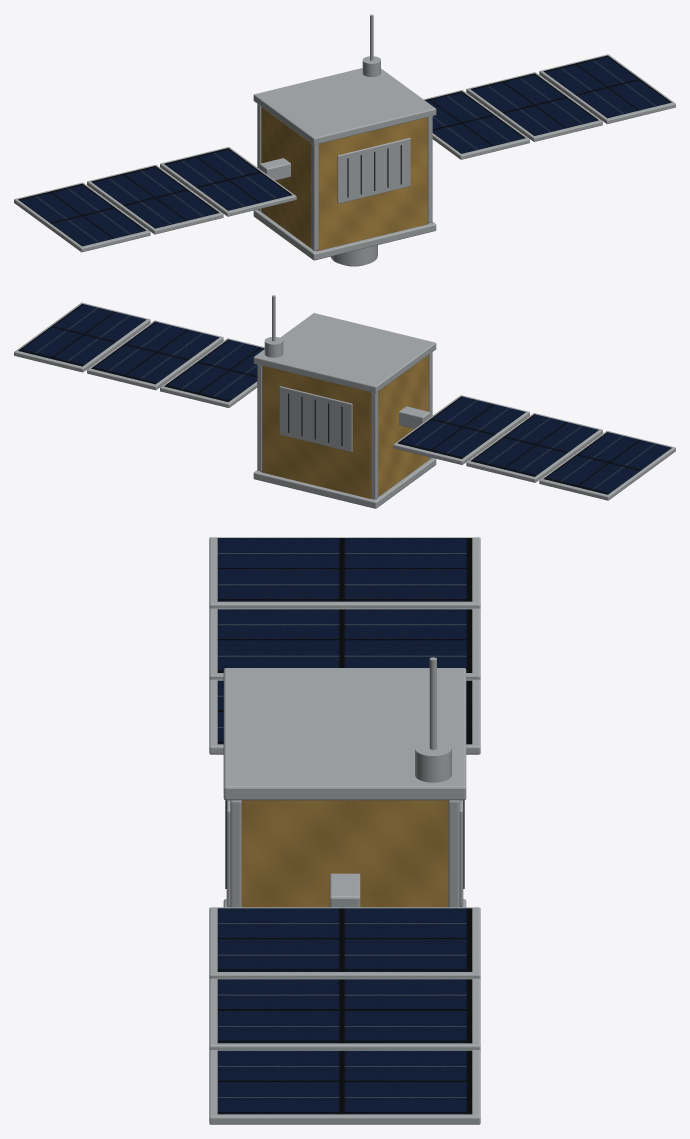
File: satellite_base.glb
3 views of the same model, one above another, from view 1: azimuth 30°, elevation 25°; view 2: azimuth 150°, elevation 25°; view 3: azimuth 270°, elevation 25° (orthographic). The views are drawn at different scales.
Visible parts, largest first — view 1: Satellite_Bus, Satellite_StructuralDeck.001, SolarPanel_Cells.004, SolarPanel_Cells.001, SolarPanel_Cells.002, SolarPanel_Cells.005, SolarPanel_Cells, Bus_RadiatorPanel, SolarPanel_Cells.003, Satellite_StructuralDeck, SolarPanel_Frame, SolarPanel_Frame.001 (+8 smaller); view 2: Satellite_Bus, Satellite_StructuralDeck.001, SolarPanel_Cells.004, SolarPanel_Cells, SolarPanel_Cells.001, SolarPanel_Cells.005, SolarPanel_Cells.002, Bus_RadiatorPanel.001, SolarPanel_Cells.003, Satellite_StructuralDeck, SolarPanel_Frame, SolarPanel_Frame.004 (+8 smaller); view 3: Satellite_StructuralDeck.001, Satellite_Bus, SolarPanel_Cells.004, SolarPanel_Cells.005, SolarPanel_Cells.002, SolarPanel_Cells.003, SolarPanel_Cells.001, SolarPanel_Frame.005, SolarPanel_Frame.002, SolarPanel_Frame.003, SolarPanel_Frame.004, SolarPanel_Frame.001 (+6 smaller).
Part boxes in pixels (bbox=[...]): Satellite_Bus: bbox=[261, 107, 428, 250]; Satellite_StructuralDeck.001: bbox=[253, 68, 436, 144]; SolarPanel_Cells.004: bbox=[470, 73, 598, 135]; SolarPanel_Cells.001: bbox=[91, 166, 219, 228]; SolarPanel_Cells.002: bbox=[18, 183, 146, 246]; SolarPanel_Cells.005: bbox=[543, 55, 671, 118]; SolarPanel_Cells: bbox=[164, 148, 291, 210]; Bus_RadiatorPanel: bbox=[337, 138, 410, 203]; SolarPanel_Cells.003: bbox=[425, 91, 525, 153]; Satellite_StructuralDeck: bbox=[253, 209, 436, 260]; SolarPanel_Frame: bbox=[160, 147, 296, 216]; SolarPanel_Frame.001: bbox=[87, 164, 223, 234]; Satellite_Bus: bbox=[261, 355, 428, 499]; Satellite_StructuralDeck.001: bbox=[253, 313, 436, 393]; SolarPanel_Cells.004: bbox=[91, 321, 219, 384]; SolarPanel_Cells: bbox=[397, 396, 525, 458]; SolarPanel_Cells.001: bbox=[471, 414, 598, 476]; SolarPanel_Cells.005: bbox=[18, 304, 146, 366]; SolarPanel_Cells.002: bbox=[544, 432, 671, 494]; Bus_RadiatorPanel.001: bbox=[279, 386, 352, 452]; SolarPanel_Cells.003: bbox=[164, 339, 264, 401]; Satellite_StructuralDeck: bbox=[253, 458, 436, 508]; SolarPanel_Frame: bbox=[393, 395, 529, 464]; SolarPanel_Frame.004: bbox=[87, 320, 223, 390]; Satellite_StructuralDeck.001: bbox=[223, 668, 466, 800]; Satellite_Bus: bbox=[241, 800, 448, 907]; SolarPanel_Cells.004: bbox=[217, 979, 472, 1043]; SolarPanel_Cells.005: bbox=[217, 1050, 472, 1114]; SolarPanel_Cells.002: bbox=[217, 538, 472, 601]; SolarPanel_Cells.003: bbox=[217, 908, 472, 971]; SolarPanel_Cells.001: bbox=[217, 609, 472, 672]; SolarPanel_Frame.005: bbox=[209, 1050, 480, 1124]; SolarPanel_Frame.002: bbox=[209, 537, 480, 609]; SolarPanel_Frame.003: bbox=[209, 907, 480, 979]; SolarPanel_Frame.004: bbox=[209, 978, 480, 1050]; SolarPanel_Frame.001: bbox=[209, 608, 480, 680].
Size of the model in its own units: 6.68 by 2.24 by 1.32.
4 materials, 2 textured.
